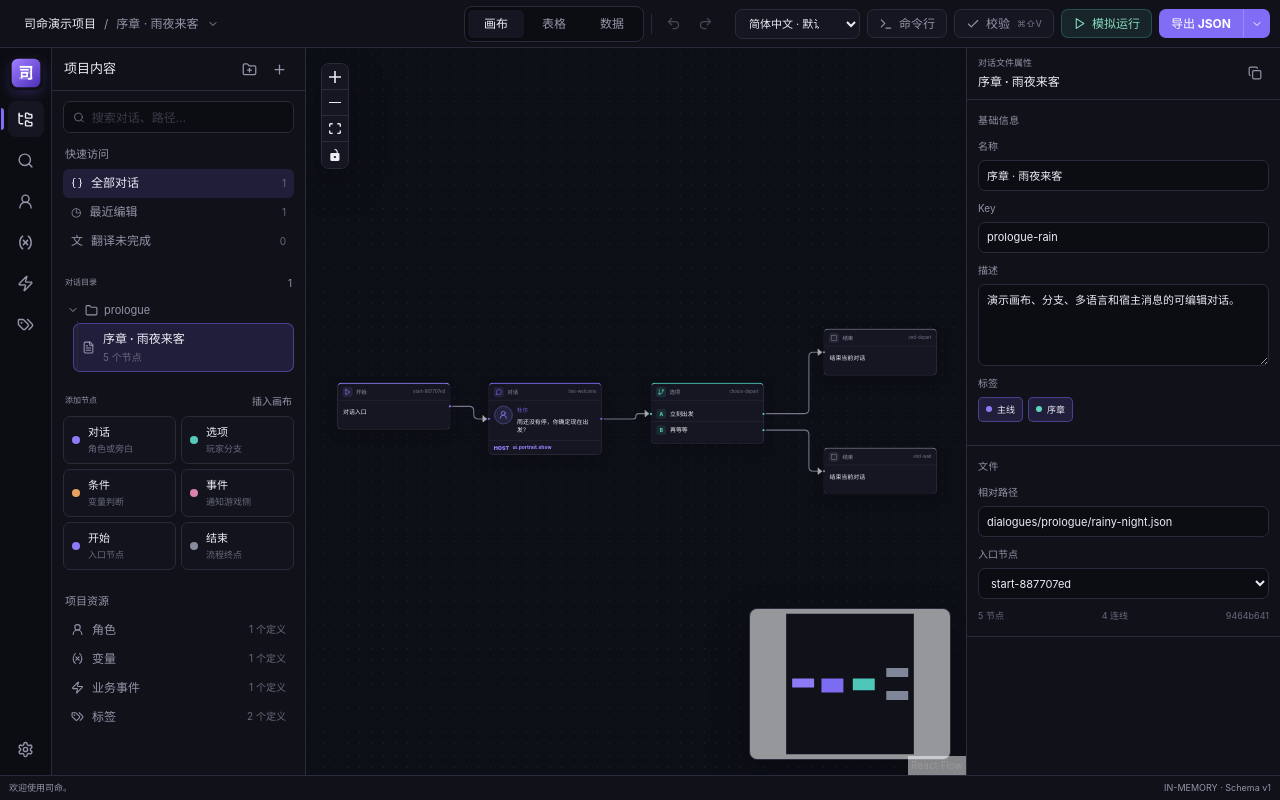
Test: system language and editor font size settings are applied
Click the button named "设置": (26, 749) x1=8 y1=731 x2=44 y2=767
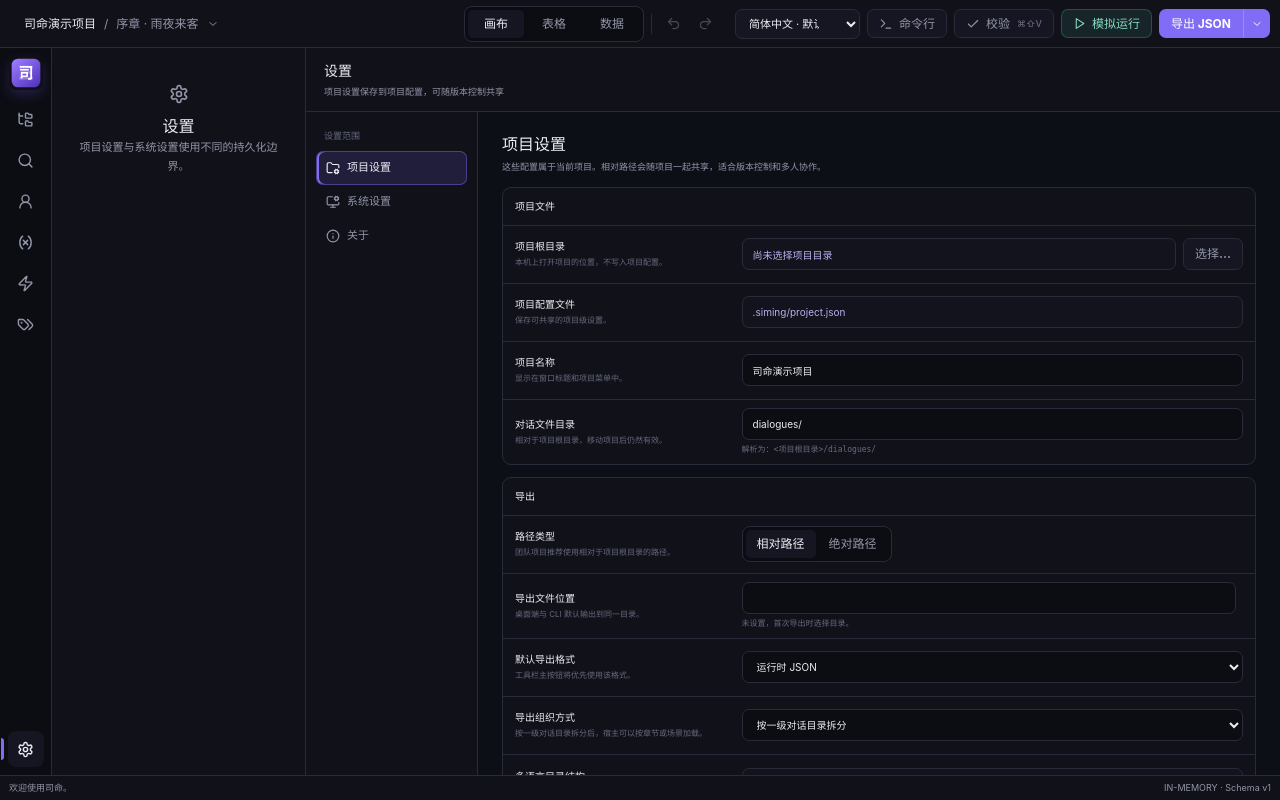
Click the button "系统设置": (392, 202) x1=316 y1=184 x2=467 y2=218
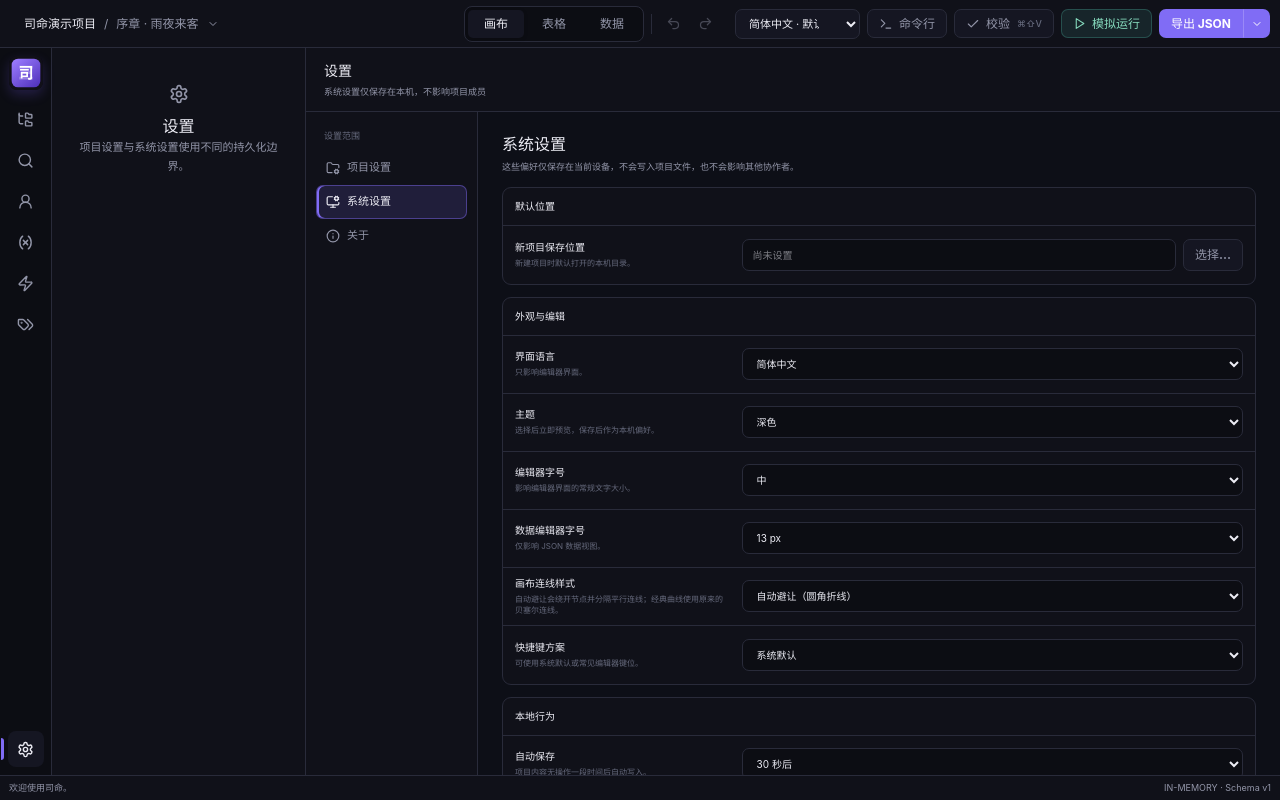
Select "English" in the dropdown labelled "界面语言 只影响编辑器界面。": (992, 364) x1=742 y1=348 x2=1243 y2=380
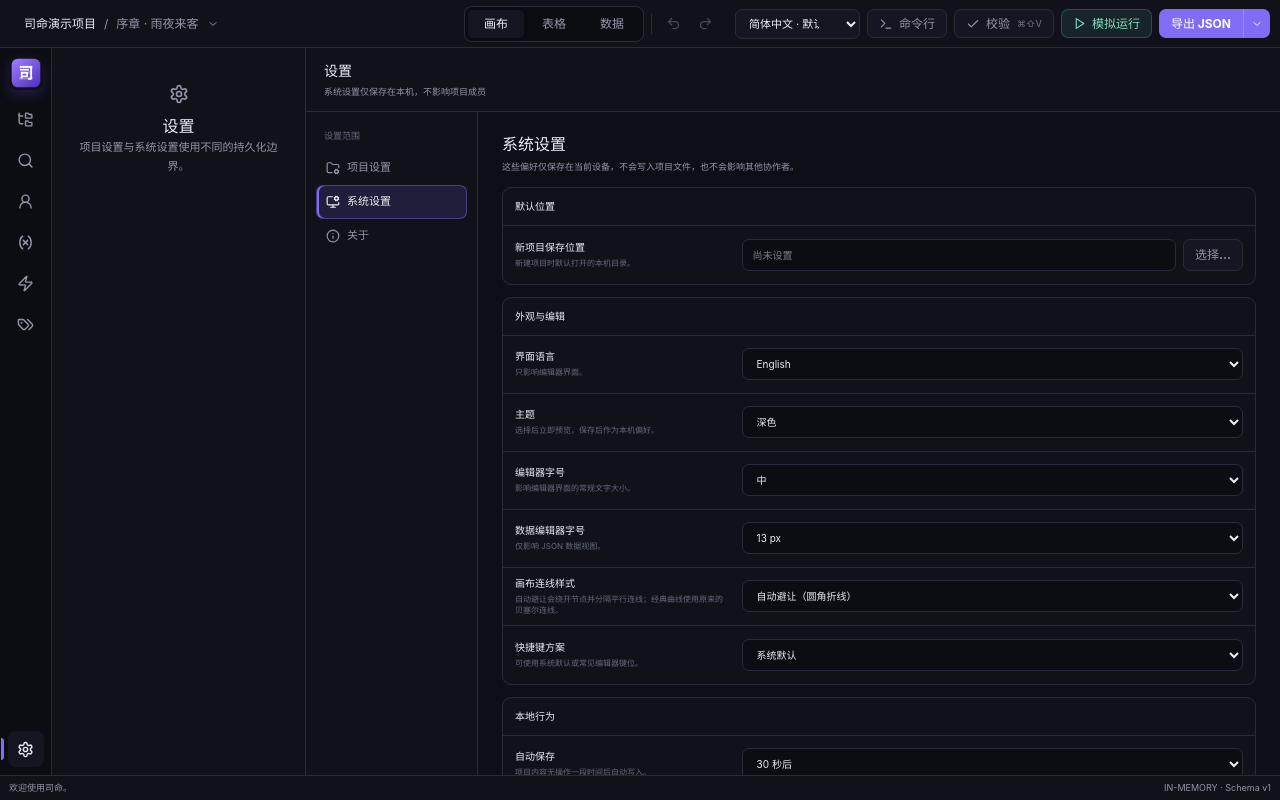
Select "大" in the dropdown labelled "编辑器字号 影响编辑器界面的常规文字大小。": (992, 480) x1=742 y1=464 x2=1243 y2=496
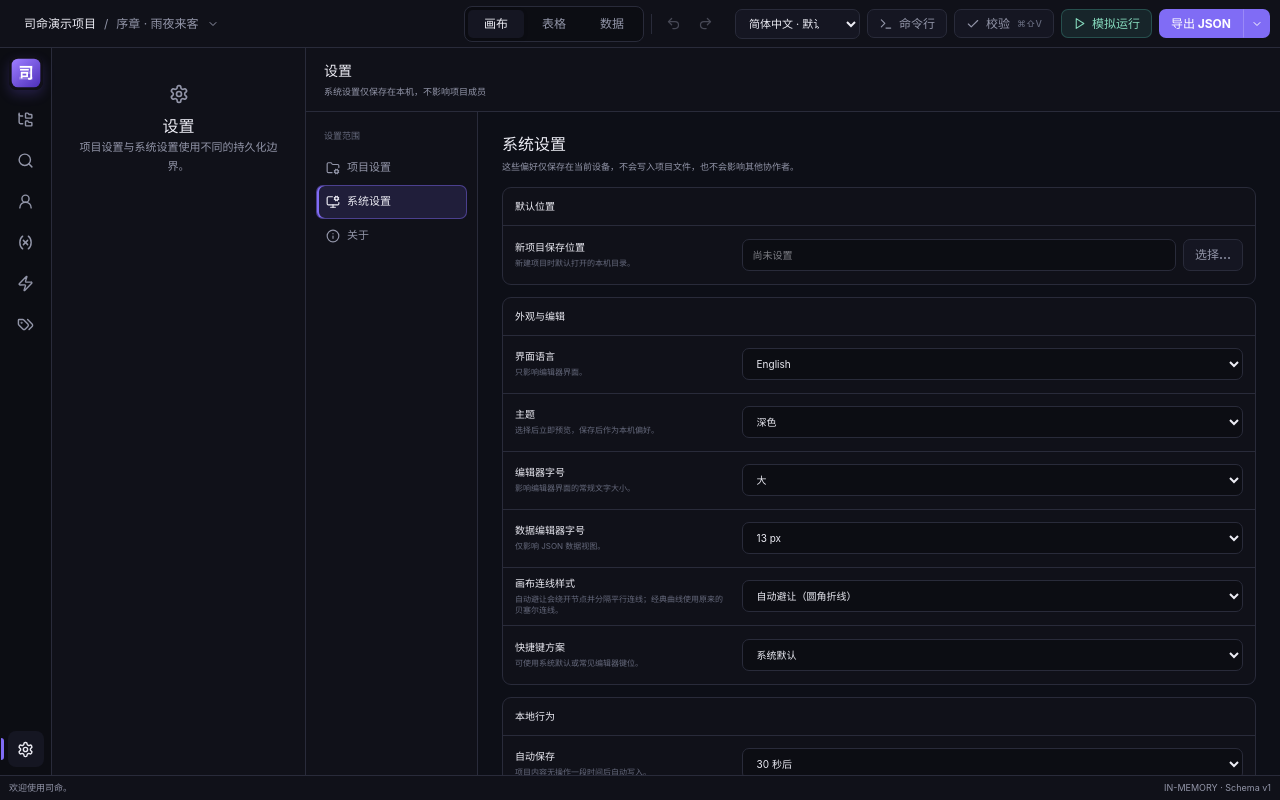
Select "18 px" in the dropdown labelled "数据编辑器字号 仅影响 JSON 数据视图。": (992, 538) x1=742 y1=522 x2=1243 y2=554
(page scrolled)
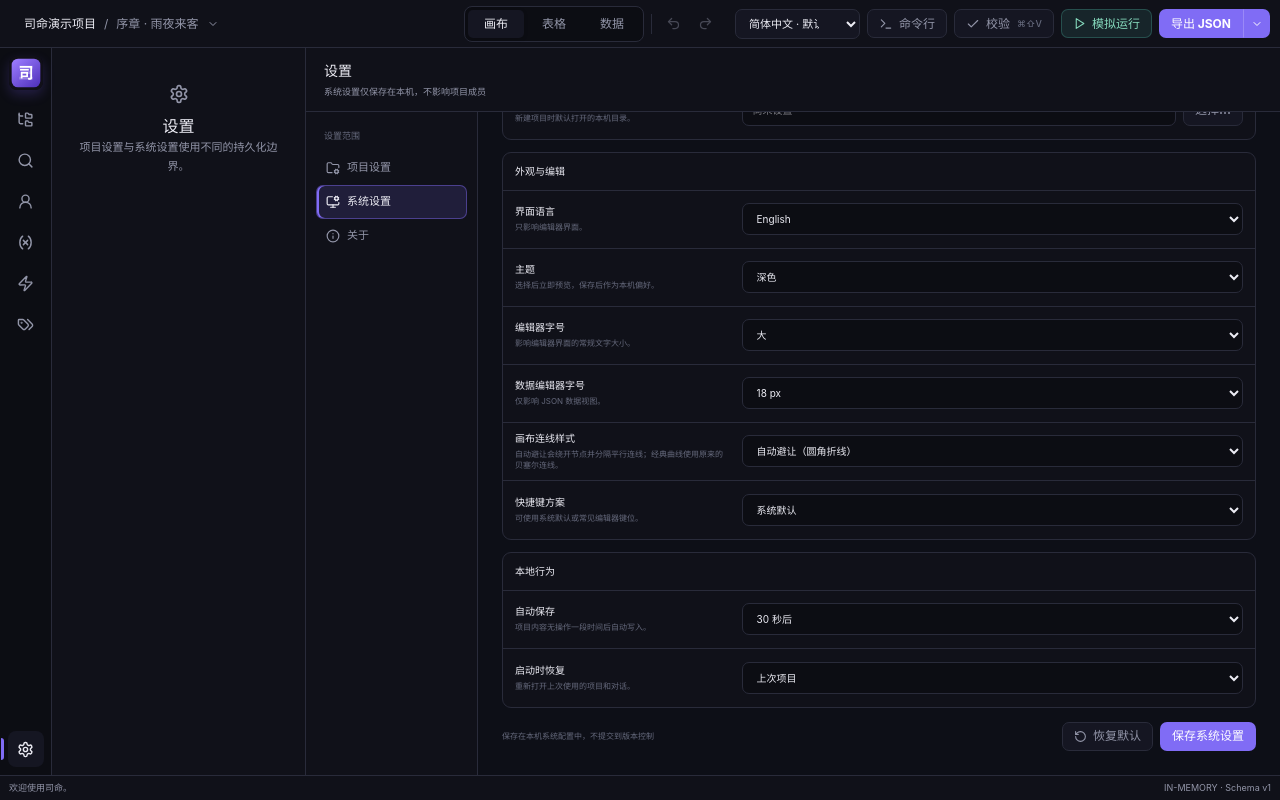
Click the button "保存系统设置": (1208, 736) x1=1160 y1=722 x2=1256 y2=751
(page scrolled)
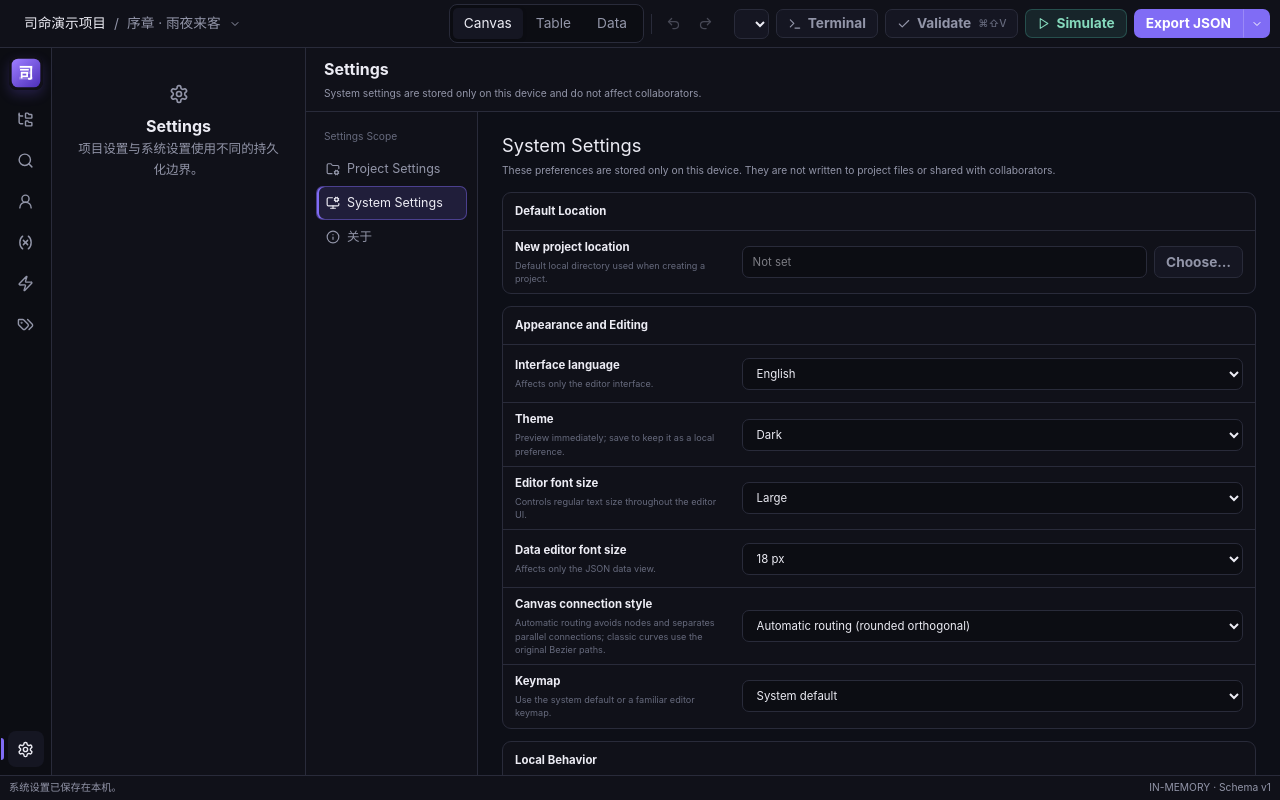
Now the heading "System Settings" is shown, box x1=502 y1=134 x2=641 y2=156
